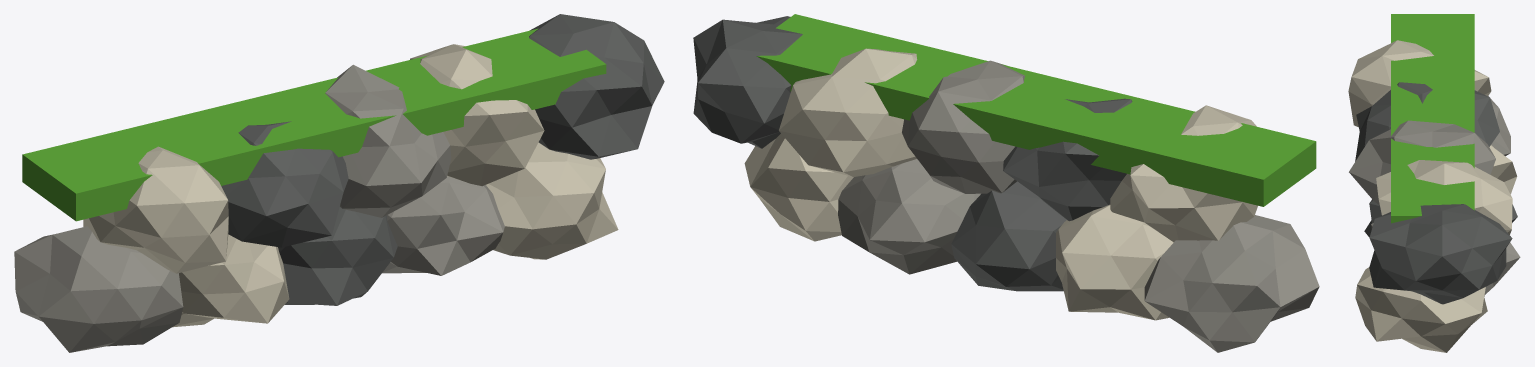
File: fence_stone.glb
3 views of the same model, side by side, from view 1: azimuth 30°, elevation 25°; view 2: azimuth 150°, elevation 25°; view 3: azimuth 270°, elevation 25° (orthographic). The views are drawn at different scales.
Parts seen in each view (by area): view 1: fence_stone; view 2: fence_stone; view 3: fence_stone.
Boxes of the visible parts, x1=… form: fence_stone: x1=14, y1=14, x2=664, y2=352; fence_stone: x1=693, y1=14, x2=1319, y2=352; fence_stone: x1=1348, y1=14, x2=1520, y2=352.
Size of what is drawn, in the model's own units: 2.36 by 0.7646 by 0.7202.
